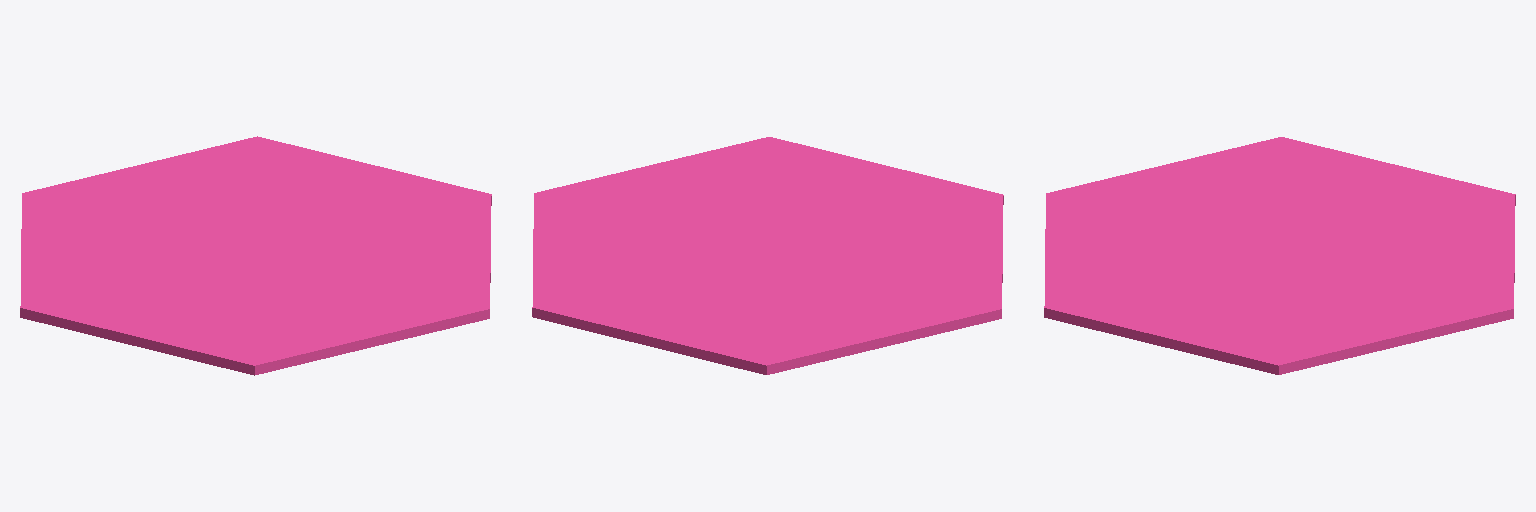
robot.urdf — Hexagon_pink:
<?xml version="1.0"?>
<!-- created with Phobos 1.0.1 "Capricious Choutengan" -->
  <robot name="Hexagon_pink">
  
    <material name="pink">
      <color rgba="1 0.388 0.71 1"/>
    </material>

    <link name="Untitled">
      <inertial>
        <origin xyz="0 0 0" rpy="0 0 0"/>
        <mass value="0.001"/>
        <inertia ixx="0.001" ixy="0" ixz="0" iyy="0.001" iyz="0" izz="0.001"/>
      </inertial>
      <visual name="Miniaturebase 20151107-25899-Phehsx-0">
        <origin xyz="0 0 0" rpy="0 1.57 0.72"/>
        <geometry>
          <mesh filename="hexagon.stl" scale="0.3 1 1"/>        
        </geometry>
        <material name="pink"/>
      </visual>
    </link>
    
  </robot>

--- Render facts (derived) ---
The picture shows the robot from 3 angles, left to right: view 1: azimuth 30°, elevation 25°; view 2: azimuth 150°, elevation 25°; view 3: azimuth 270°, elevation 25°; orthographic projection.
Robot: Hexagon_pink — 1 links, 0 joints (none); root link Untitled; default pose: every joint at zero.
Links seen in each view (by area): view 1: Untitled; view 2: Untitled; view 3: Untitled.
Boxes of the visible links, box(x1,y1,x2,y2) form: Untitled: box(20, 136, 491, 375); Untitled: box(532, 137, 1003, 374); Untitled: box(1044, 137, 1515, 374).
Size in the robot's own frame: 45 by 39.09 by 0.934 metres.
1 mesh visuals loaded from 1 distinct referenced files (1 binary STL).
